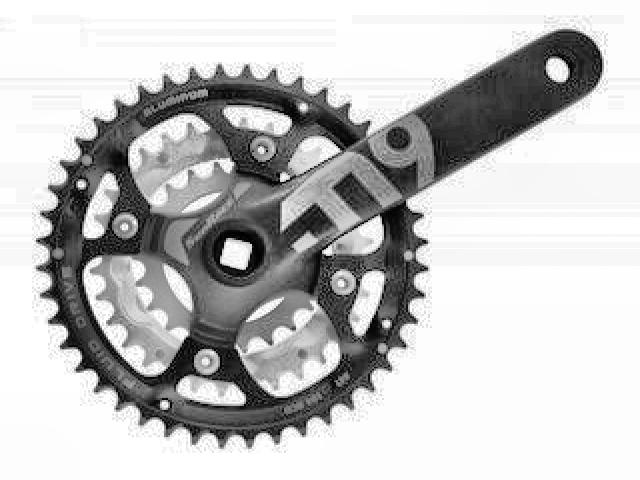cranks_set: (36, 26, 604, 447)
